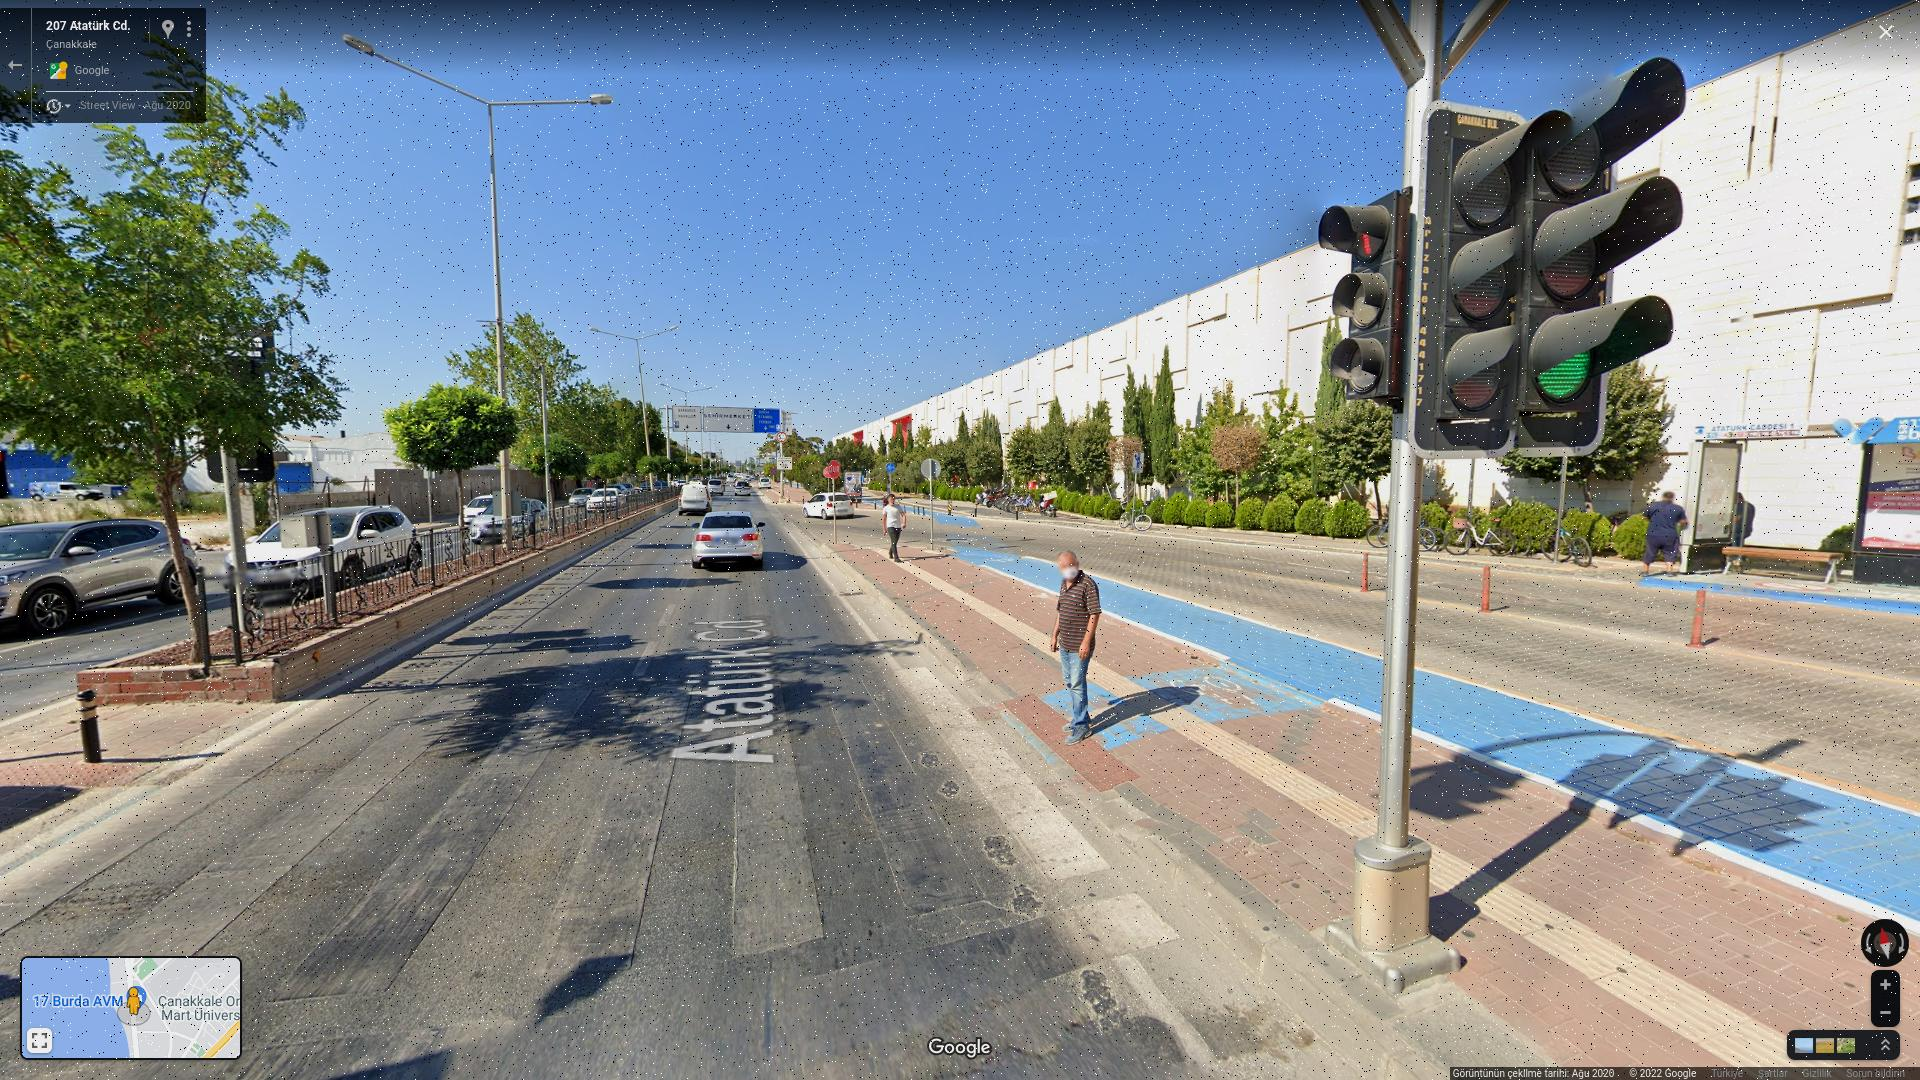greenlight: (1538, 84, 1688, 462)
